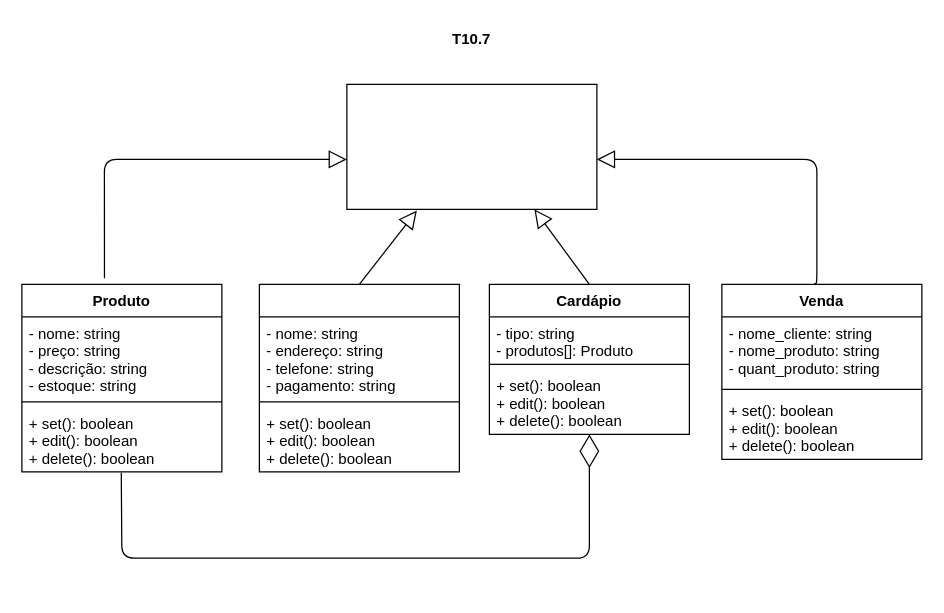
Image size: 944x613. Some labels were removed from this diagram. The shapes that lost their labels are listed below. From the top down, each one's box as (x1, y1, x2, y2) in pixels, then its label:
(346, 83, 597, 209): <<Abstract>> CRUD + set(): boolean + edit(): boolean + delete(): boolean
(258, 283, 459, 472): Cliente
